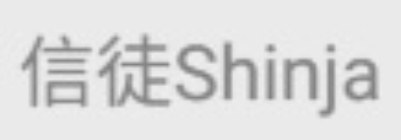TextView: (1, 1, 400, 139)
